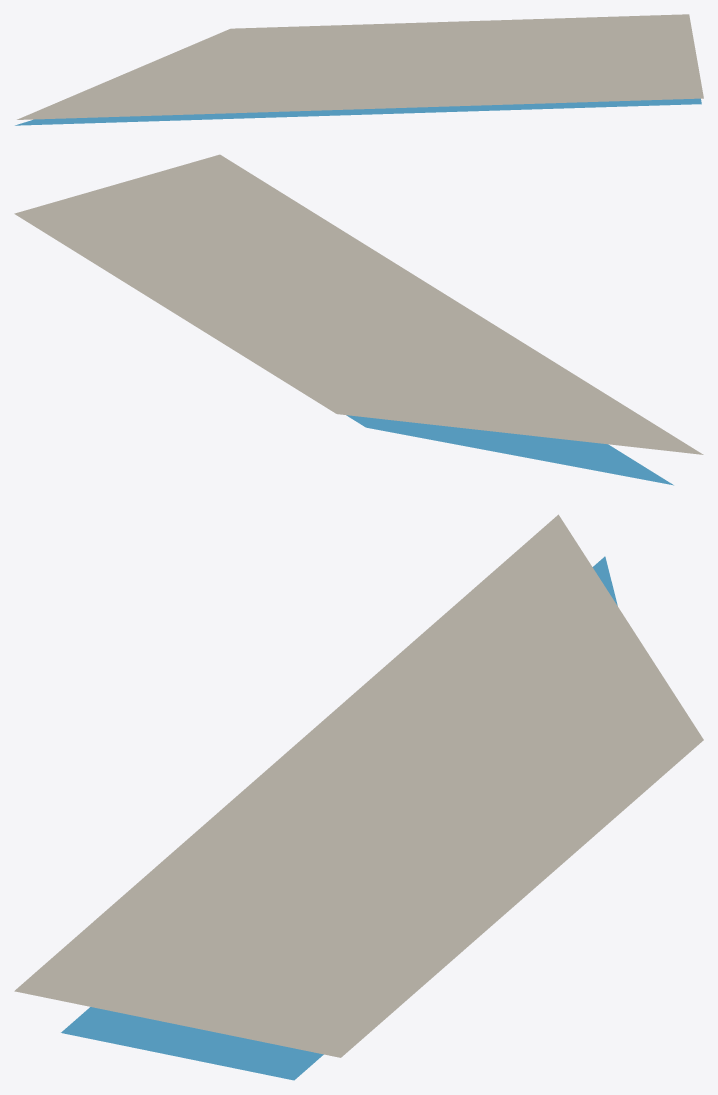
The picture shows the model from 3 angles, top to bottom: view 1: azimuth 30°, elevation 25°; view 2: azimuth 150°, elevation 25°; view 3: azimuth 270°, elevation 25°; orthographic projection. The views are drawn at different scales.
Visible parts, largest first — view 1: estructura_terreno, estructura_agua; view 2: estructura_terreno, estructura_agua; view 3: estructura_terreno, estructura_agua.
Boxes of the visible parts, x1,y1,x2,y2 form: estructura_terreno: [17, 14, 703, 119]; estructura_agua: [15, 98, 701, 125]; estructura_terreno: [14, 154, 703, 454]; estructura_agua: [346, 415, 673, 485]; estructura_terreno: [14, 514, 703, 1057]; estructura_agua: [61, 556, 617, 1080].
Size of the model in its own units: 14.88 by 0.41 by 7.98.
